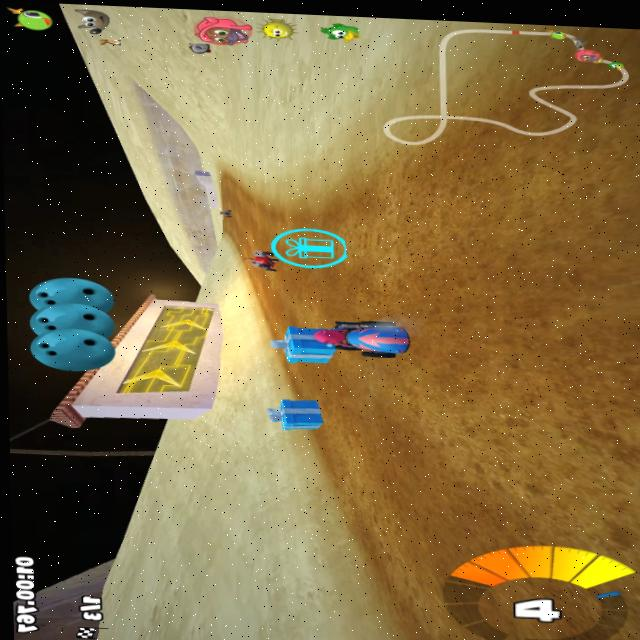bonus: (267, 214, 365, 272), (273, 319, 338, 369), (269, 395, 327, 434)
enemy_kart: (249, 249, 276, 272), (212, 207, 235, 218)
track: (420, 158, 640, 552), (352, 359, 436, 548), (376, 167, 421, 320), (279, 268, 370, 319), (242, 197, 271, 248), (245, 275, 283, 307), (221, 179, 239, 205), (222, 218, 239, 235)
